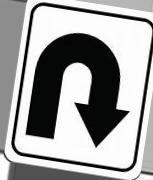back: (9, 1, 146, 178)
